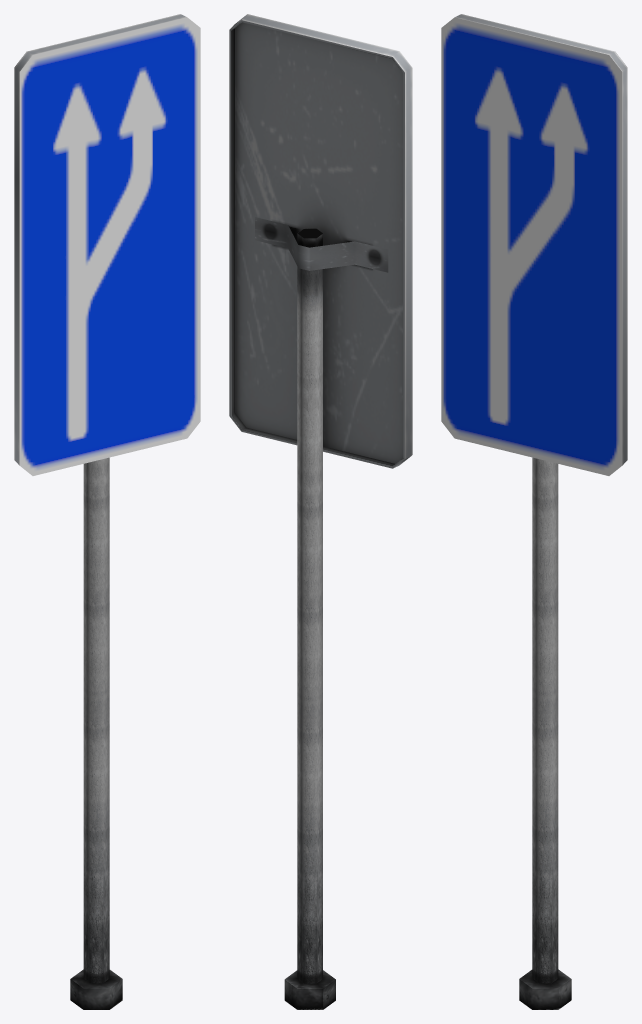
File: ROD0310054.FBX
3 renders of one model, left to right at view 1: azimuth 30°, elevation 25°; view 2: azimuth 150°, elevation 25°; view 3: azimuth 330°, elevation 25°, orthographic.
Parts seen in each view (by area): view 1: smROD0310054; view 2: smROD0310054; view 3: smROD0310054.
Part boxes in pixels (x1=…): smROD0310054: x1=14, y1=14, x2=200, y2=1009; smROD0310054: x1=229, y1=14, x2=412, y2=1009; smROD0310054: x1=441, y1=14, x2=627, y2=1009.
Size of the model in its own units: 0.395 by 2.03 by 0.1004.
1 material, 1 textured.
